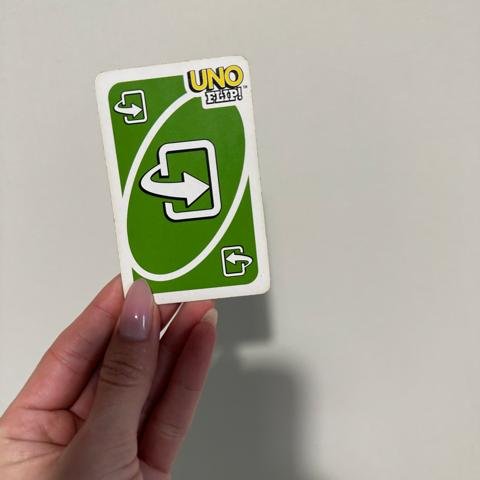lgreenflip-20: (105, 78, 157, 136)
